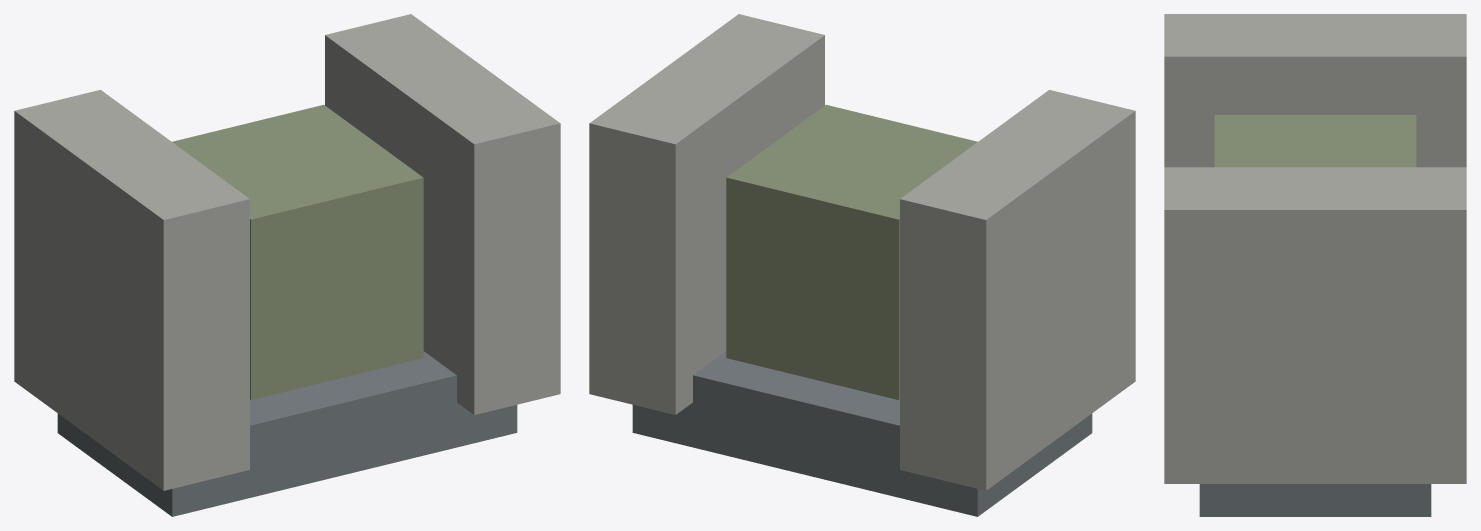
File: bench_grinder.glb
The picture shows the model from 3 angles, left to right: view 1: azimuth 30°, elevation 25°; view 2: azimuth 150°, elevation 25°; view 3: azimuth 270°, elevation 25°; orthographic projection.
Visible parts, largest first — view 1: body; view 2: body; view 3: body.
Part boxes in pixels (<box>): body: <box>14,14,560,516</box>; body: <box>589,14,1135,516</box>; body: <box>1164,14,1466,516</box>.
Size of the model in its own units: 0.46 by 0.35 by 0.3.
